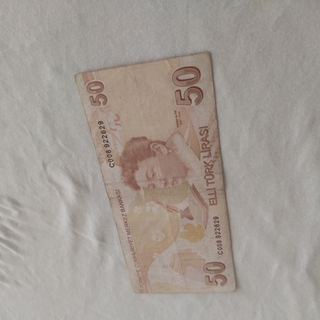50TLBack: (73, 50, 237, 295)
